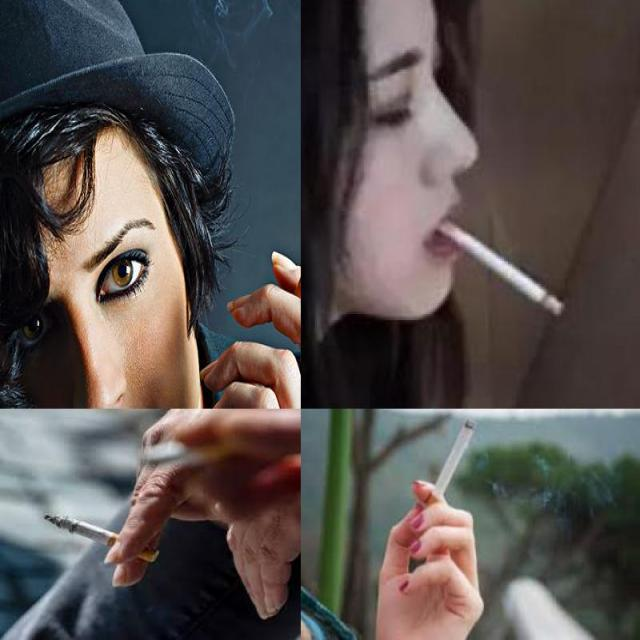cigarette: (414, 206, 580, 325), (44, 514, 160, 562), (422, 420, 474, 518)
